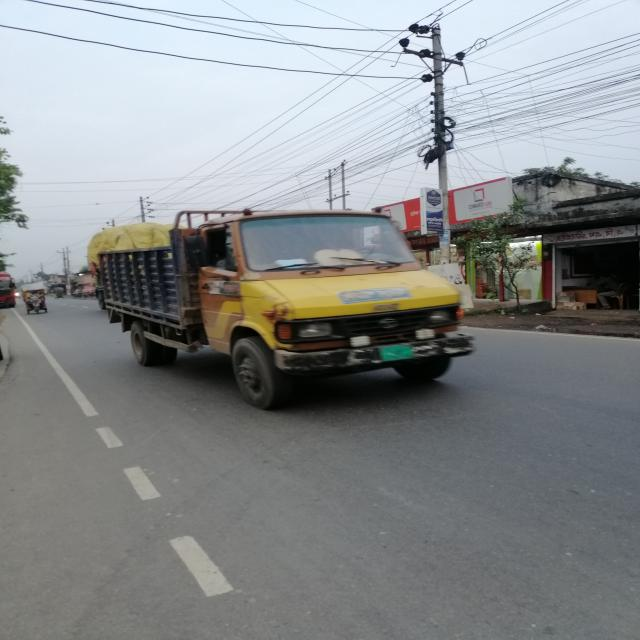Auto-Rickshaw: (11, 286, 56, 331)
Truck: (69, 198, 508, 425)
